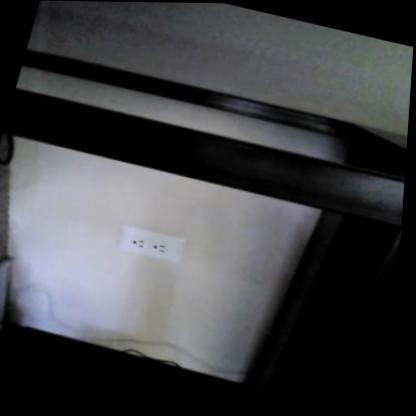OUTLET: (116, 224, 187, 263)
